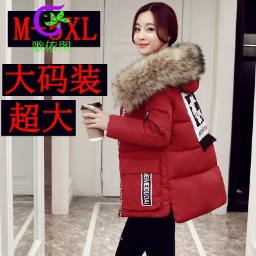face: (129, 2, 182, 55)
